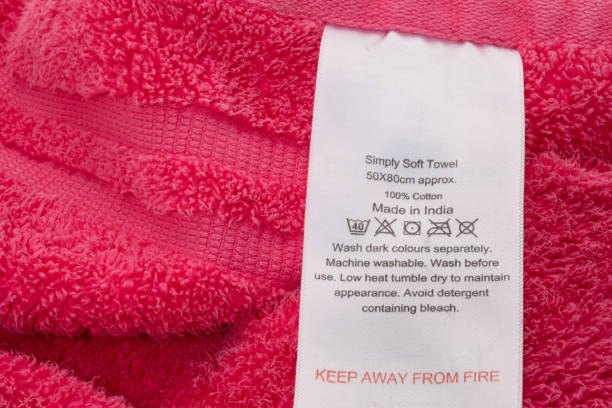ER_no_bleach: (372, 215, 398, 239)
ER_no_dry_clean: (453, 216, 480, 240)
ER_no_iron: (425, 218, 453, 239)
ER_tumble_dry_low_heat: (401, 219, 422, 238)
ER_wash_40_mild: (343, 214, 372, 237)
